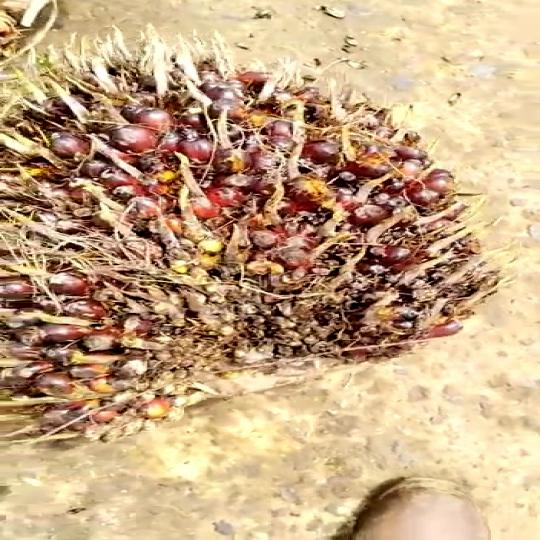masak: (0, 33, 516, 456)
